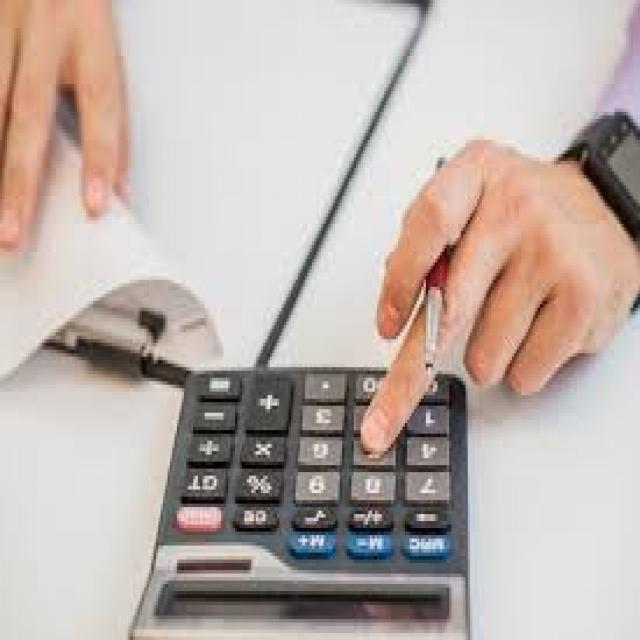Calculator: (116, 354, 474, 640)
